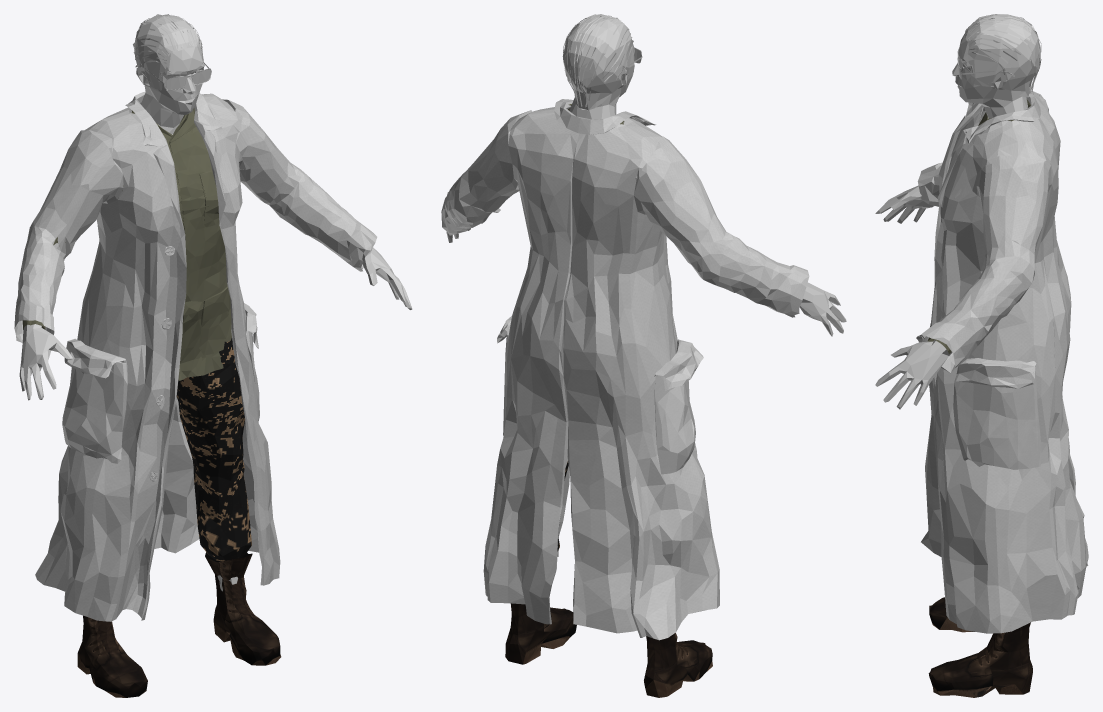
File: doc1.fbx
The picture shows the model from 3 angles, left to right: view 1: azimuth 30°, elevation 25°; view 2: azimuth 150°, elevation 25°; view 3: azimuth 270°, elevation 25°; orthographic projection.
Visible parts, largest first — view 1: doc1; view 2: doc1; view 3: doc1.
Boxes of the visible parts, x1,y1,x2,y2 form: doc1: (14, 14, 412, 697); doc1: (441, 14, 846, 697); doc1: (875, 14, 1088, 697).
Bounding box in the file's own units: 376 × 601 × 182.
